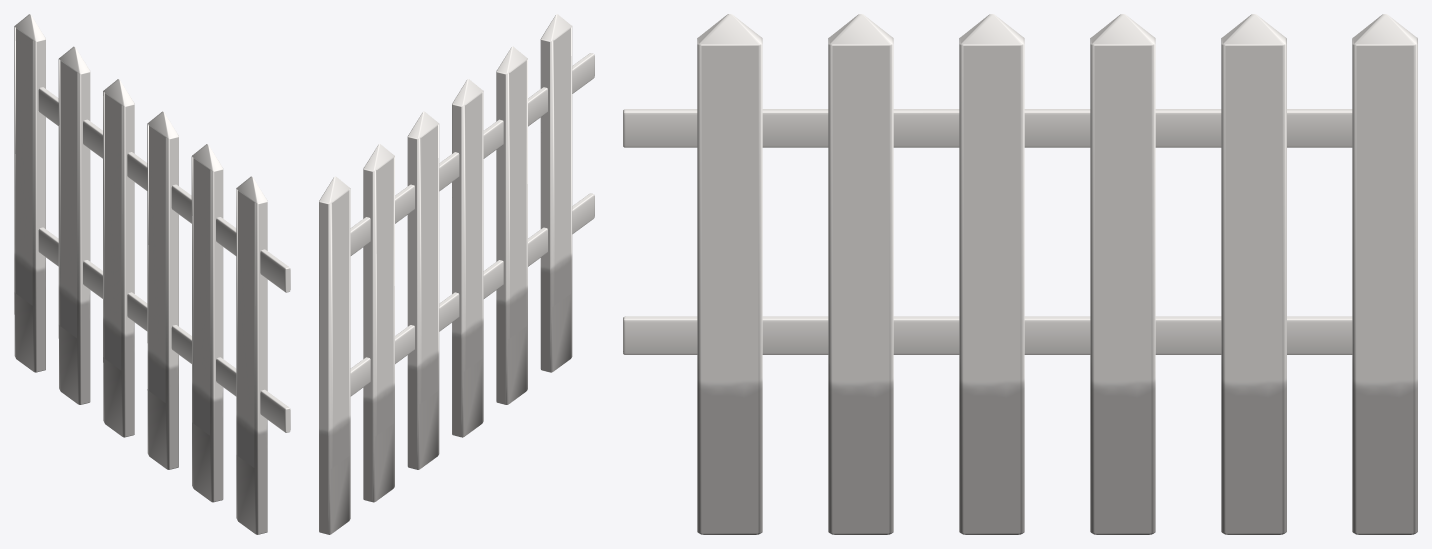
File: Fence_02.fbx
3 renders of one model, left to right at view 1: azimuth 30°, elevation 25°; view 2: azimuth 150°, elevation 25°; view 3: azimuth 270°, elevation 25°, orthographic. The views are drawn at different scales.
Parts seen in each view (by area): view 1: Fence_Main_02, Fence_sk_02; view 2: Fence_Main_02, Fence_sk_02; view 3: Fence_Main_02, Fence_sk_02.
Boxes of the visible parts, bbox=[...] form: Fence_Main_02: bbox=[14, 14, 267, 534]; Fence_sk_02: bbox=[38, 87, 290, 432]; Fence_Main_02: bbox=[319, 14, 572, 534]; Fence_sk_02: bbox=[350, 53, 594, 396]; Fence_Main_02: bbox=[697, 14, 1417, 534]; Fence_sk_02: bbox=[623, 109, 1352, 354].
Size of the model in its own units: 6.54 by 182 by 253.
